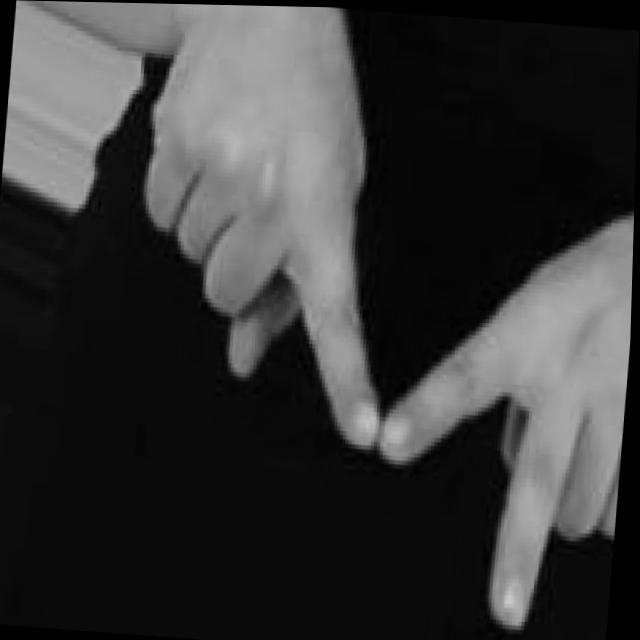N: (111, 40, 639, 640)
